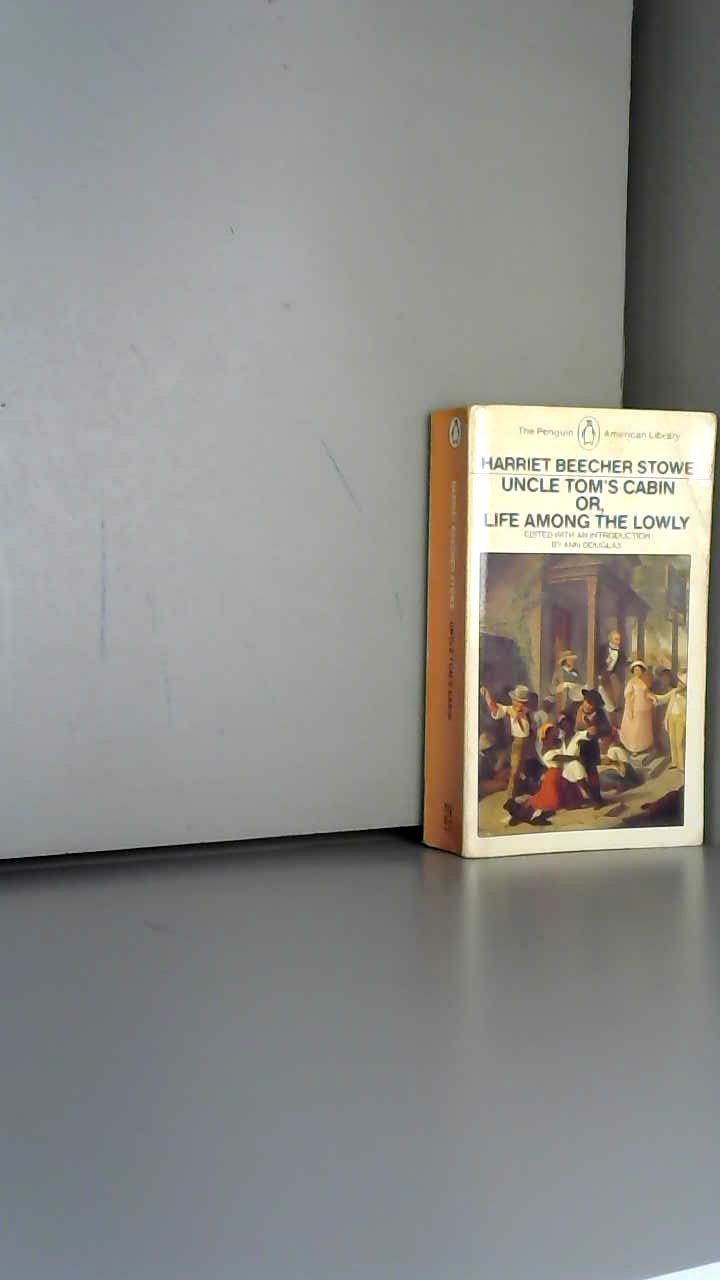book: (390, 380, 720, 925)
